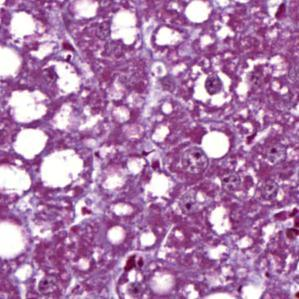steatosis: (201, 130, 231, 160)
